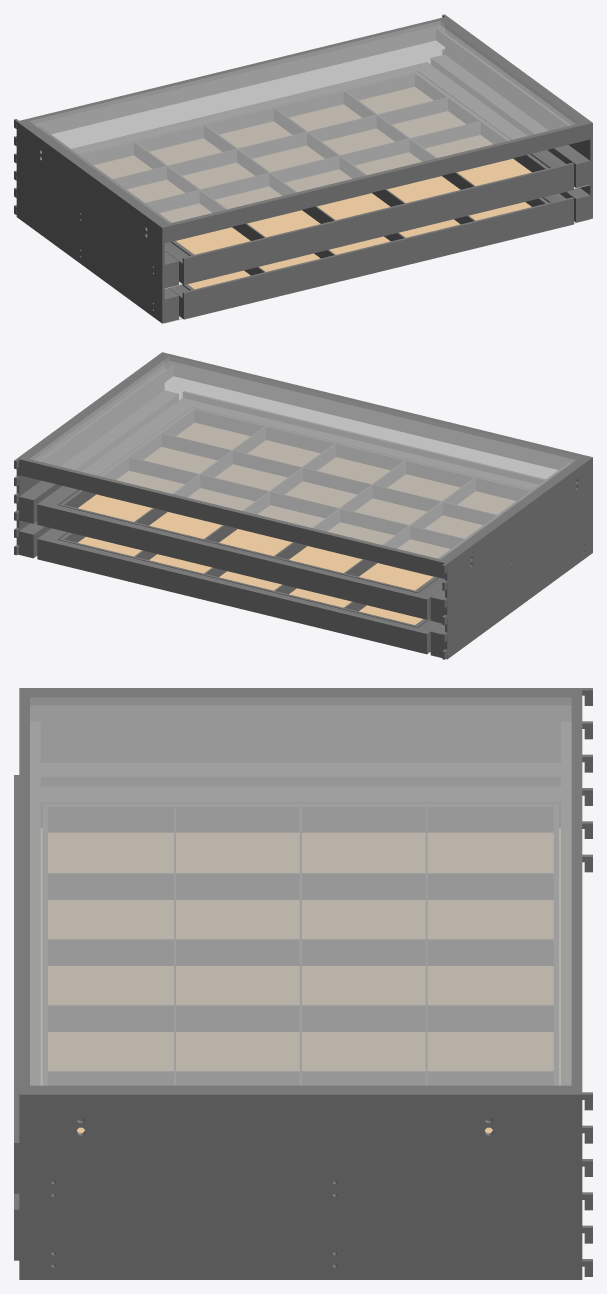
The picture shows the model from 3 angles, top to bottom: view 1: azimuth 30°, elevation 25°; view 2: azimuth 150°, elevation 25°; view 3: azimuth 270°, elevation 25°; orthographic projection. The views are drawn at different scales.
Visible parts, largest first — view 1: Geom3D (×3); view 2: Geom3D (×3); view 3: Geom3D (×3).
Part boxes in pixels (box(x1,y1,x2,y2)): Geom3D (×3): box(14, 14, 592, 323); Geom3D (×3): box(14, 352, 592, 659); Geom3D (×3): box(14, 688, 592, 1279).
Size of the model in its own units: 0.8481 by 0.181 by 0.5103.
